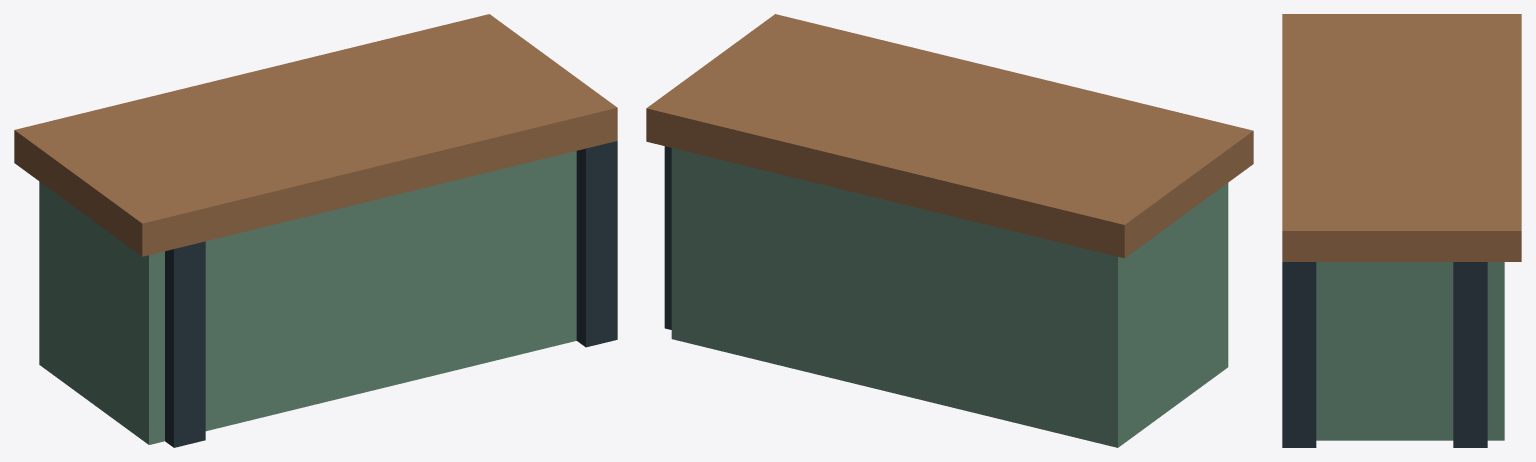
Rendered from finance-06.glb.
3 renders of one model, left to right at view 1: azimuth 30°, elevation 25°; view 2: azimuth 150°, elevation 25°; view 3: azimuth 270°, elevation 25°, orthographic. The views are drawn at different scales.
Visible parts, largest first — view 1: Bank counter; view 2: Bank counter; view 3: Bank counter.
Part boxes in pixels (x1,y1,x2,y2): Bank counter: (14,14,617,447); Bank counter: (646,14,1253,447); Bank counter: (1282,14,1521,447).
Bounding box in the file's own units: 2.4 × 1.12 × 1.12.
